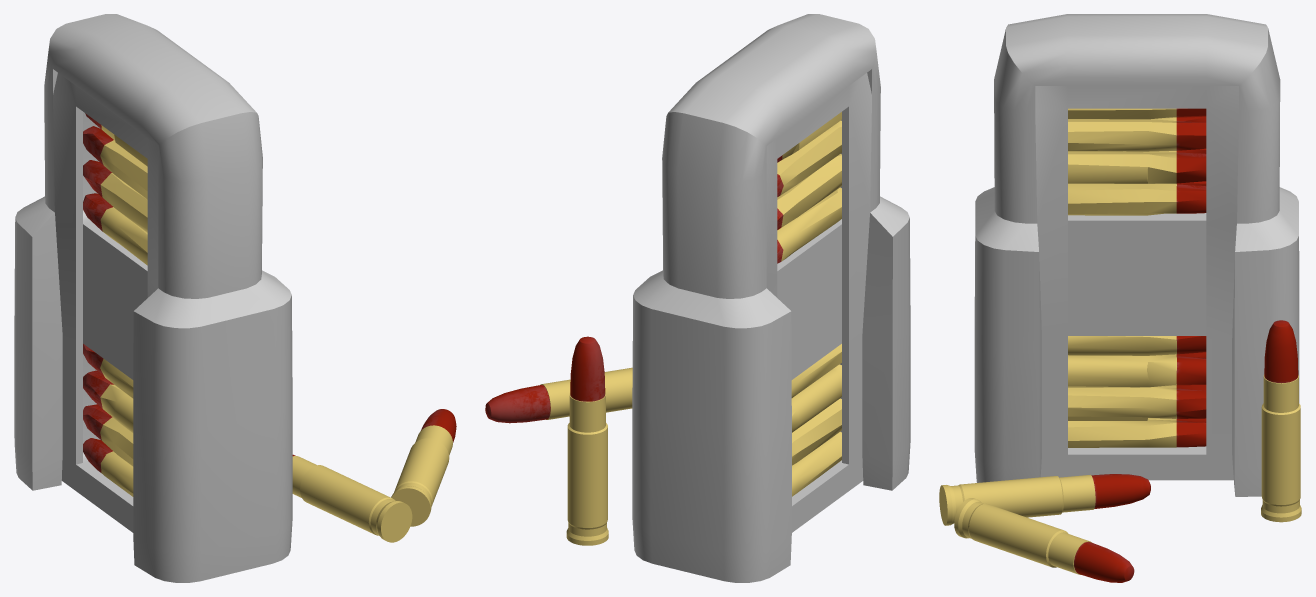
The model's file is Ammo_pickup_Rifle.fbx.
3 renders of one model, left to right at view 1: azimuth 30°, elevation 25°; view 2: azimuth 150°, elevation 25°; view 3: azimuth 270°, elevation 25°, orthographic. The views are drawn at different scales.
Visible parts, largest first — view 1: Ammo_pickup_holder_rifle; view 2: Ammo_pickup_holder_rifle; view 3: Ammo_pickup_holder_rifle.
Part boxes in pixels (x1,y1,x2,y2): Ammo_pickup_holder_rifle: (14,14,456,582); Ammo_pickup_holder_rifle: (485,14,910,582); Ammo_pickup_holder_rifle: (939,14,1301,582).
Size of the model in its own units: 103 by 124 by 92.49.
